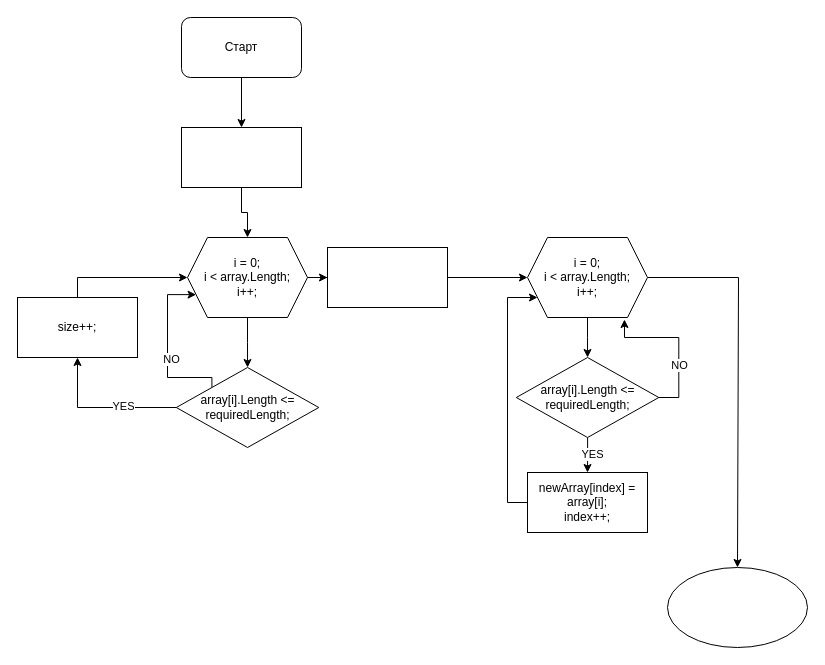
This 825x665 diagram has some shape labels left out. Each missing label, with the box of its shape:
string[] array; size = 0; requiredLength = 3;: (180, 126, 302, 188)
string[] newArray = new string[size]; index = 0;: (326, 246, 448, 308)
Готово Создан новый массив отвечающий условиям задачи: (666, 566, 808, 648)
